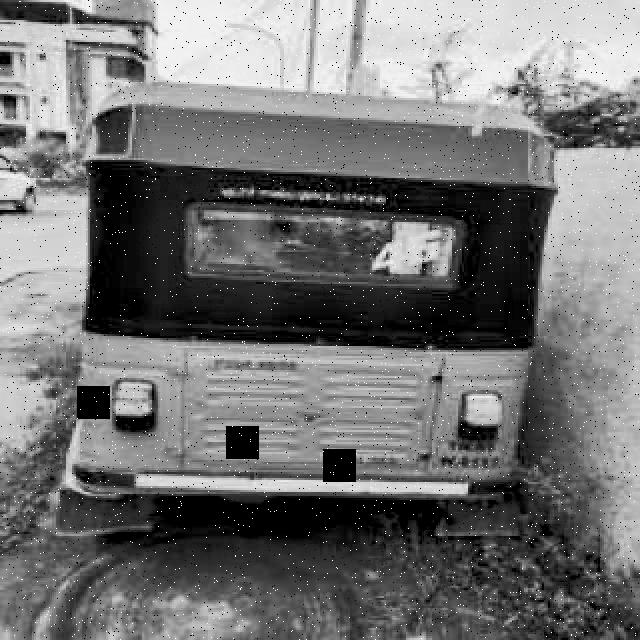Auto-Rickshaw: (68, 72, 530, 554)
